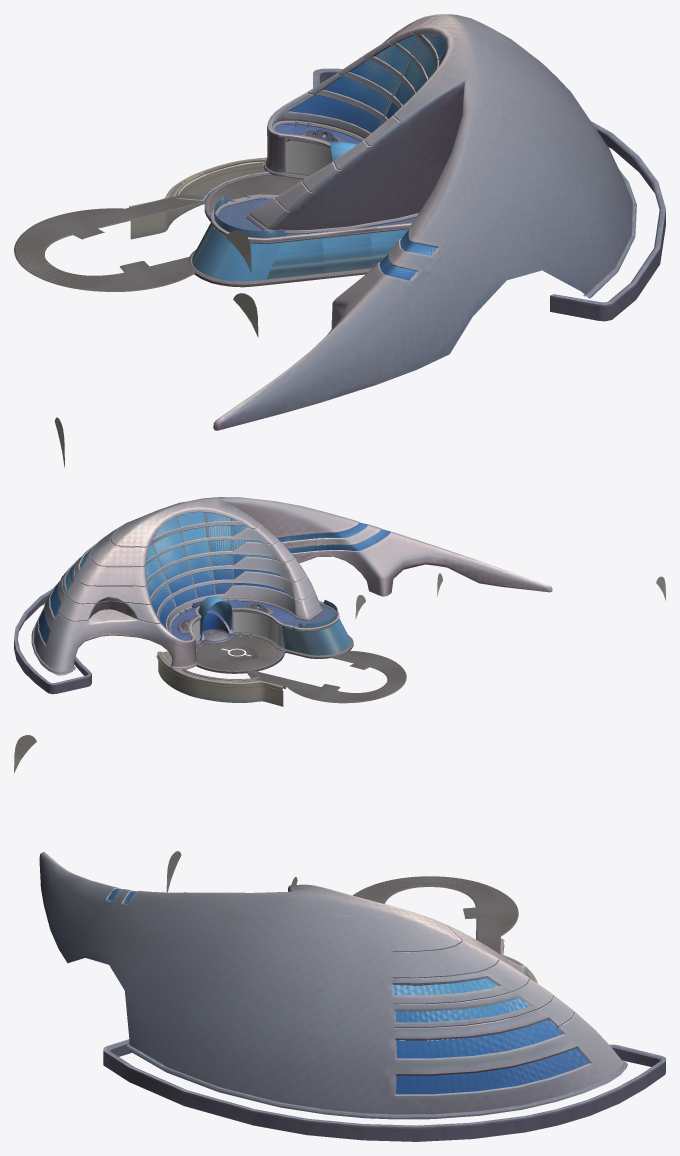
The model's file is pref_sm_beach_bk_pointmol_leftbuild01_lv1.fbx.
3 renders of one model, top to bottom at view 1: azimuth 30°, elevation 25°; view 2: azimuth 150°, elevation 25°; view 3: azimuth 270°, elevation 25°, orthographic. The views are drawn at different scales.
Parts seen in each view (by area): view 1: sm_beach_bk_pointmol_leftbuild01a_lv1, sm_beach_bk_pointmol_leftbuild01d_lv1, sm_beach_bk_pointmol_leftbuild01b_lv1, sm_beach_bk_pointmol_leftbuild01c_lv1, sm_beach_bk_pointmol_leftbuild01h_lv1, sm_beach_bk_pointmol_leftbuild01g_lv1; view 2: sm_beach_bk_pointmol_leftbuild01a_lv1, sm_beach_bk_pointmol_leftbuild01b_lv1, sm_beach_bk_pointmol_leftbuild01d_lv1, sm_beach_bk_pointmol_leftbuild01h_lv1, sm_beach_bk_pointmol_leftbuild01c_lv1, sm_beach_bk_pointmol_leftbuild01g_lv1, sm_beach_bk_pointmol_leftbuild01e_lv1; view 3: sm_beach_bk_pointmol_leftbuild01a_lv1, sm_beach_bk_pointmol_leftbuild01b_lv1, sm_beach_bk_pointmol_leftbuild01d_lv1.
Part boxes in pixels (x1,y1,x2,y2): sm_beach_bk_pointmol_leftbuild01a_lv1: (188,14,665,430); sm_beach_bk_pointmol_leftbuild01d_lv1: (14,175,303,467); sm_beach_bk_pointmol_leftbuild01b_lv1: (214,34,446,280); sm_beach_bk_pointmol_leftbuild01c_lv1: (192,222,408,281); sm_beach_bk_pointmol_leftbuild01h_lv1: (129,157,268,239); sm_beach_bk_pointmol_leftbuild01g_lv1: (285,140,332,175); sm_beach_bk_pointmol_leftbuild01a_lv1: (14,497,552,694); sm_beach_bk_pointmol_leftbuild01b_lv1: (39,512,390,644); sm_beach_bk_pointmol_leftbuild01d_lv1: (196,573,665,703); sm_beach_bk_pointmol_leftbuild01h_lv1: (156,651,285,706); sm_beach_bk_pointmol_leftbuild01c_lv1: (282,618,351,655); sm_beach_bk_pointmol_leftbuild01g_lv1: (191,612,283,647); sm_beach_bk_pointmol_leftbuild01e_lv1: (218,645,254,659); sm_beach_bk_pointmol_leftbuild01a_lv1: (39,852,665,1141); sm_beach_bk_pointmol_leftbuild01b_lv1: (107,888,589,1094); sm_beach_bk_pointmol_leftbuild01d_lv1: (14,735,518,954).
Bounding box in the file's own units: 79.54 × 19.41 × 64.79.
